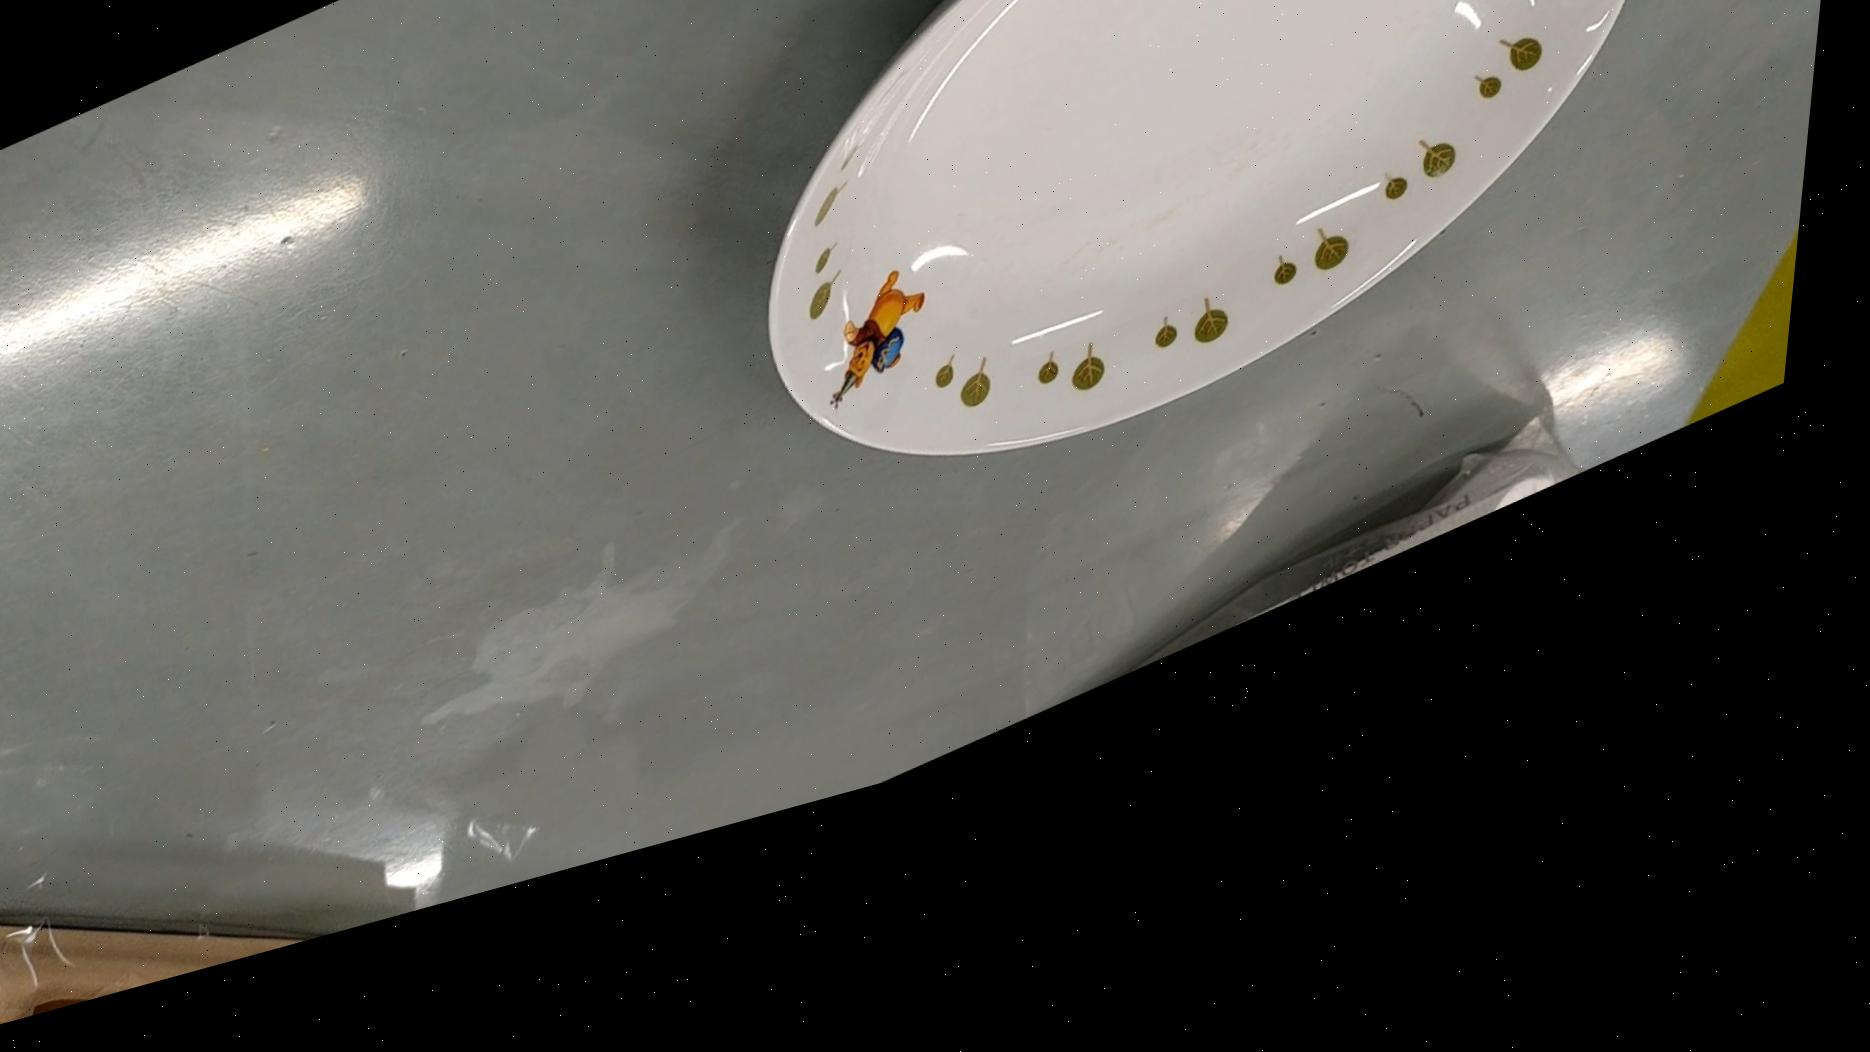plate: (703, 0, 1731, 642)
